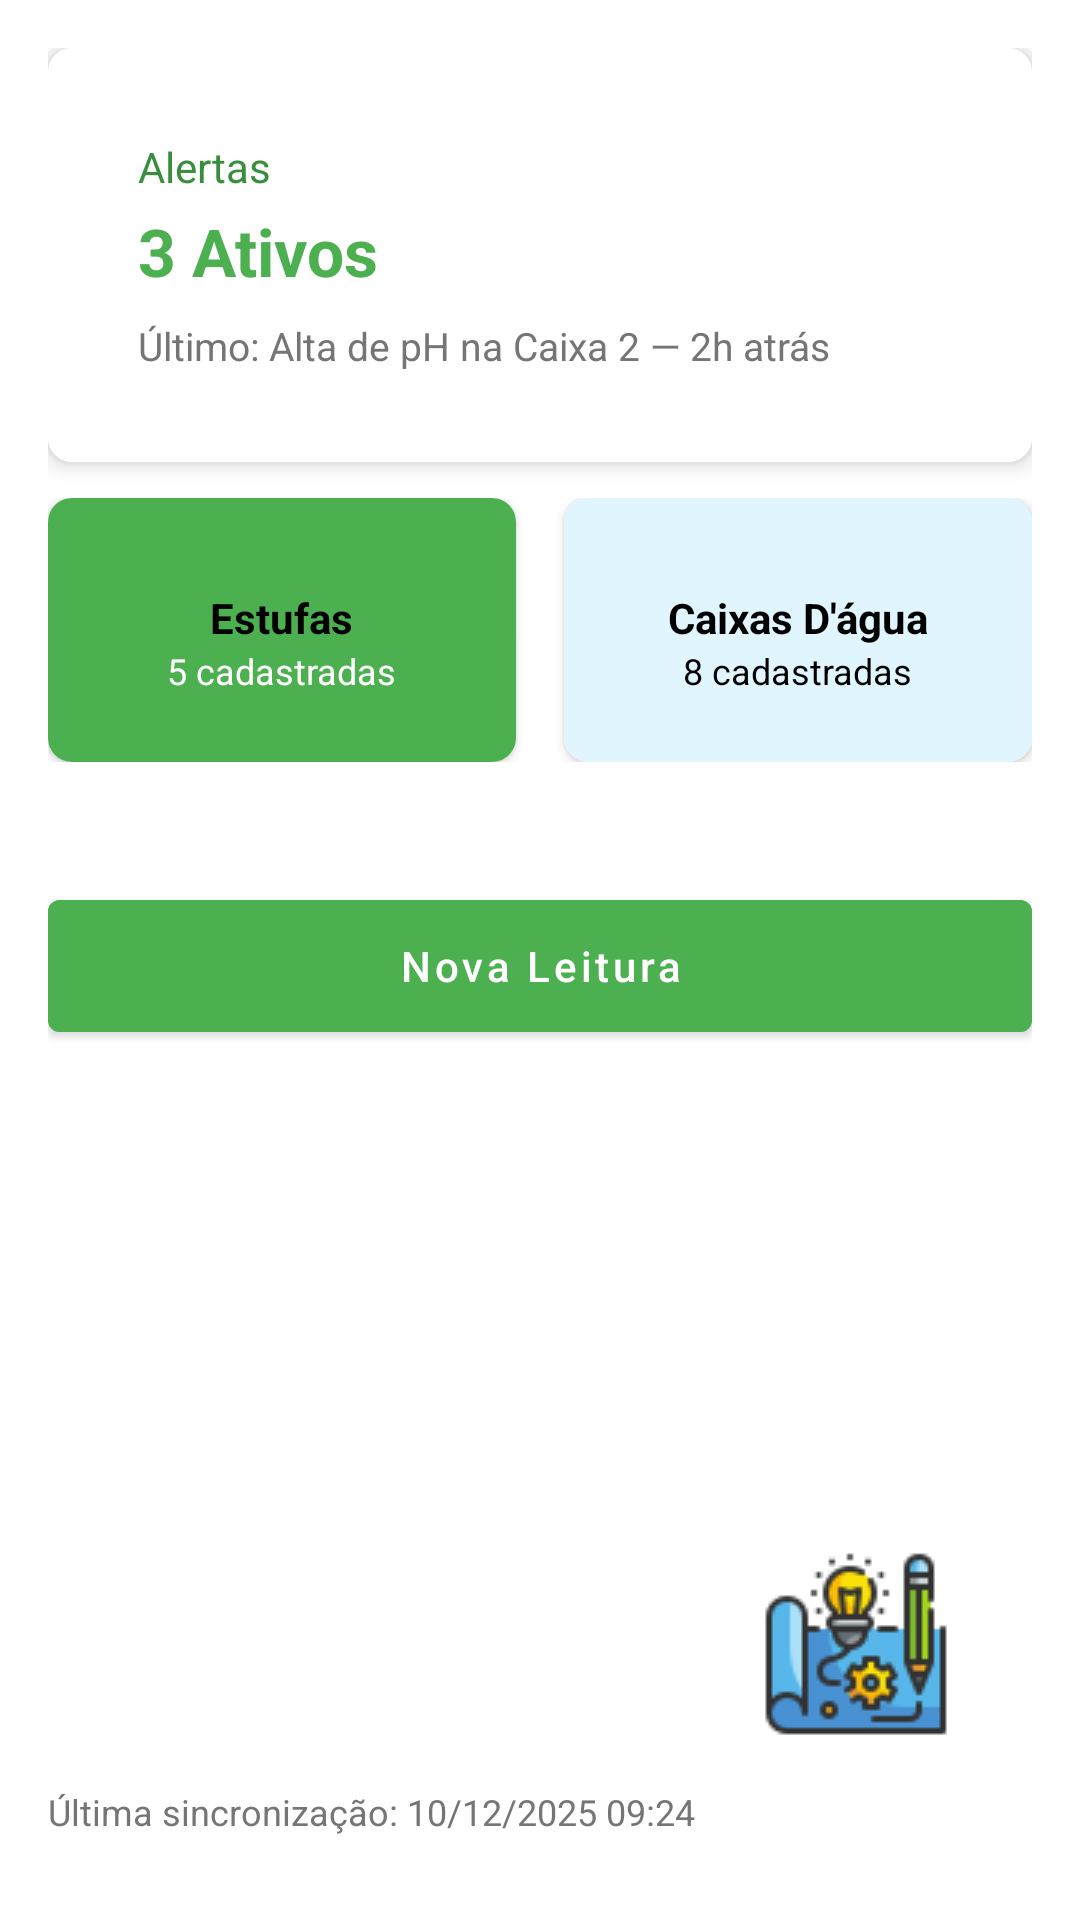

Icon bounding boxes for this 1080px×1920px phone screenshot, format (x1, y1, x2, y2):
engineicon: (765, 1553, 947, 1735)
